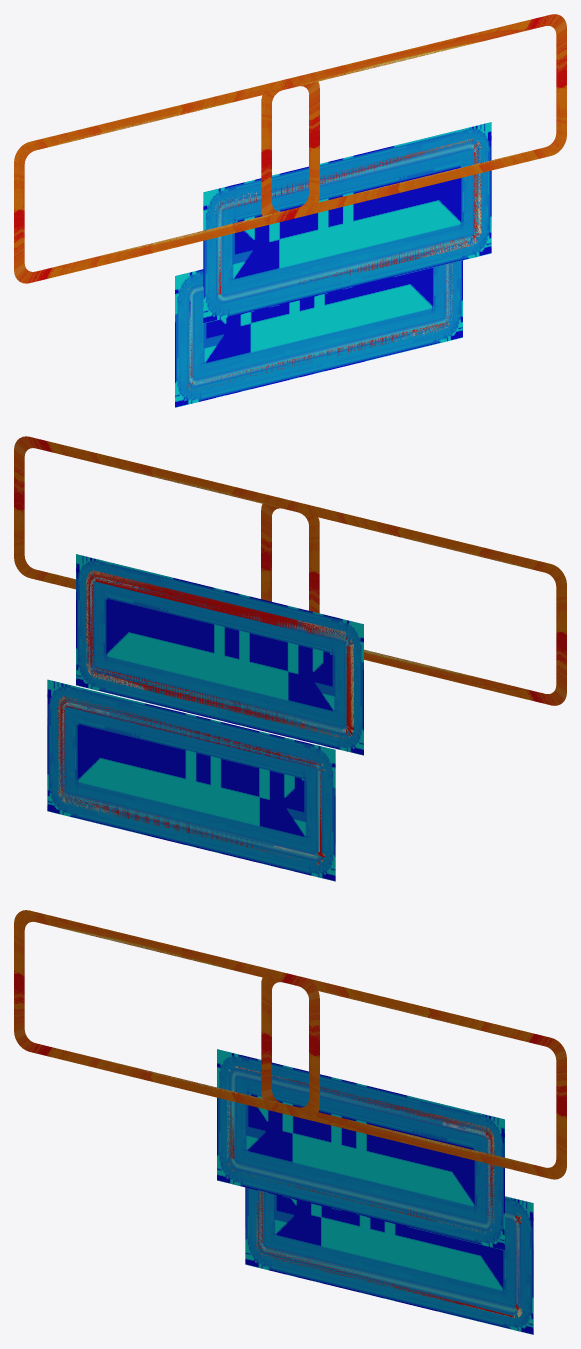
Rendered from war.fbx.
3 views of the same model, one above another, from view 1: azimuth 30°, elevation 25°; view 2: azimuth 150°, elevation 25°; view 3: azimuth 330°, elevation 25° (orthographic).
Parts seen in each view (by area): view 1: di (×2), ggtj_light (×4), ui_wuqi_03, ui_wuqi_02 (×2); view 2: di (×2), ggtj_light (×4), ui_wuqi_03 (×2), ui_wuqi_02 (×2), glow_01 (×2); view 3: di (×2), ggtj_light (×4), ui_wuqi_03, ui_wuqi_02, glow_01.
Part boxes in pixels (box(x1,y1,x2,y2)): di (×2): box(175, 122, 491, 407); ggtj_light (×4): box(14, 14, 566, 283); ui_wuqi_03: box(214, 138, 481, 294); ui_wuqi_02 (×2): box(187, 140, 479, 385); di (×2): box(47, 554, 363, 881); ggtj_light (×4): box(14, 436, 566, 705); ui_wuqi_03 (×2): box(57, 570, 353, 861); ui_wuqi_02 (×2): box(58, 571, 352, 864); glow_01 (×2): box(61, 577, 347, 856); di (×2): box(217, 1049, 533, 1334); ggtj_light (×4): box(14, 910, 566, 1179); ui_wuqi_03: box(227, 1069, 494, 1233); ui_wuqi_02: box(256, 1192, 521, 1317); glow_01: box(236, 1072, 490, 1218).
Bounding box in the file's own units: 526 × 305 × 58.02.
4 materials, 4 textured.
